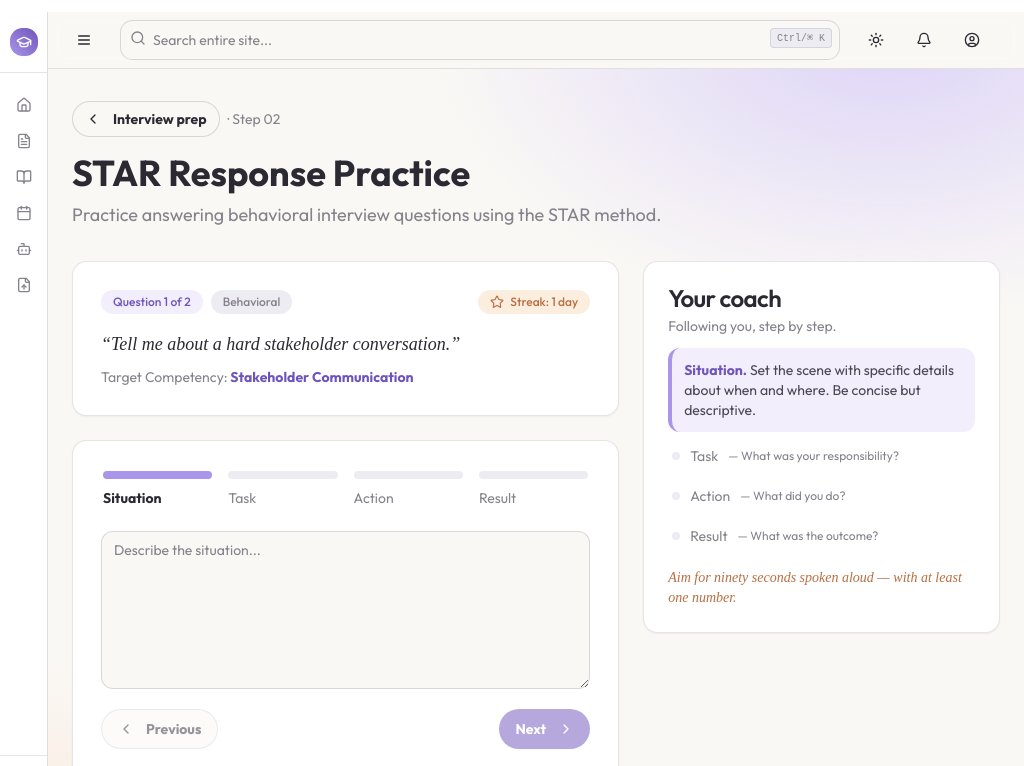
it: StarPractice page (Guided Coach) › lets the user jump between steps via the segment bar
The image size is (1024, 766).
Expected: the heading "Your coach" is shown, [668,283,781,313]
Click the tab "Result" at (534, 490), box [477,469,590,511]
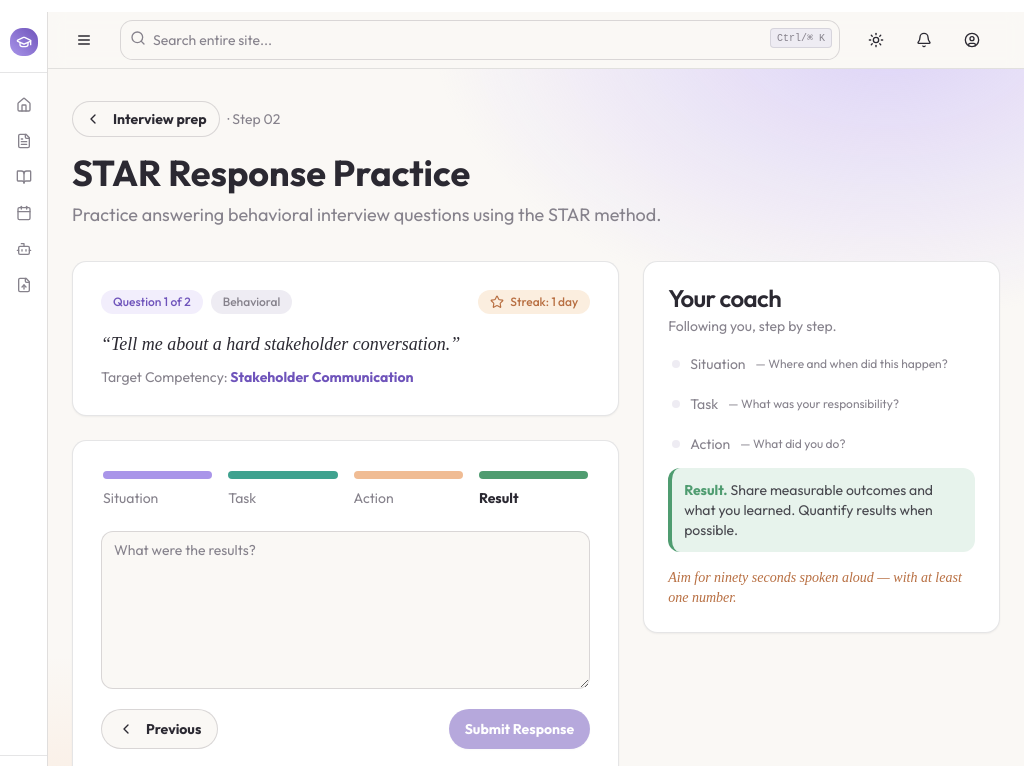
Expected: the button "Submit Response" is disabled, [449,709,590,749]
Expected: the text box with placeholder "What were the results?" is shown, [101,531,590,689]
